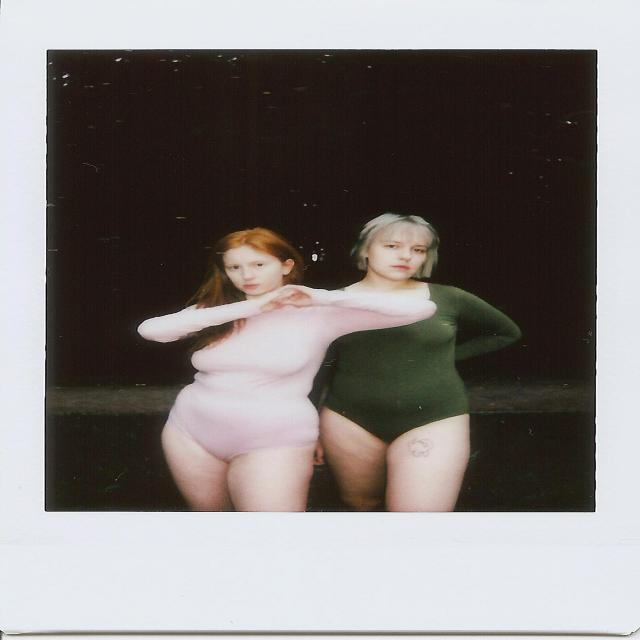stand: (293, 212, 471, 504), (167, 224, 325, 508)
